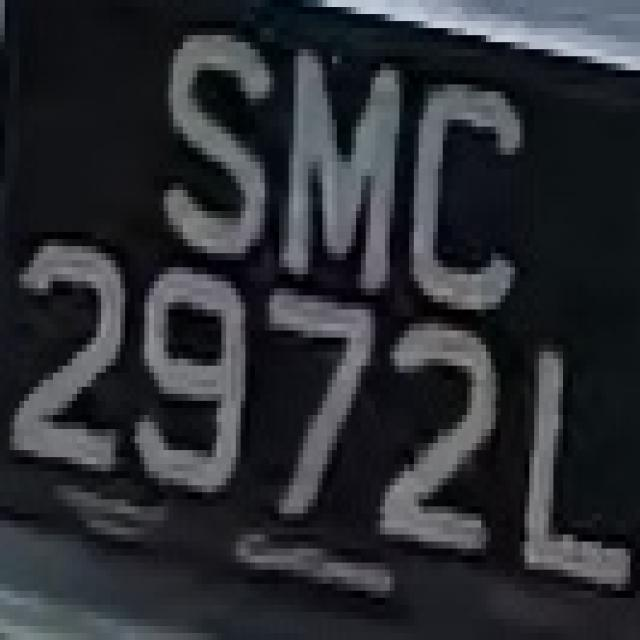2: (385, 281, 496, 570), (15, 204, 110, 520)
7: (255, 288, 371, 534)
9: (106, 239, 250, 528)
C: (399, 64, 539, 324)
L: (520, 338, 635, 598)
M: (274, 56, 404, 310)
S: (144, 14, 279, 295)
